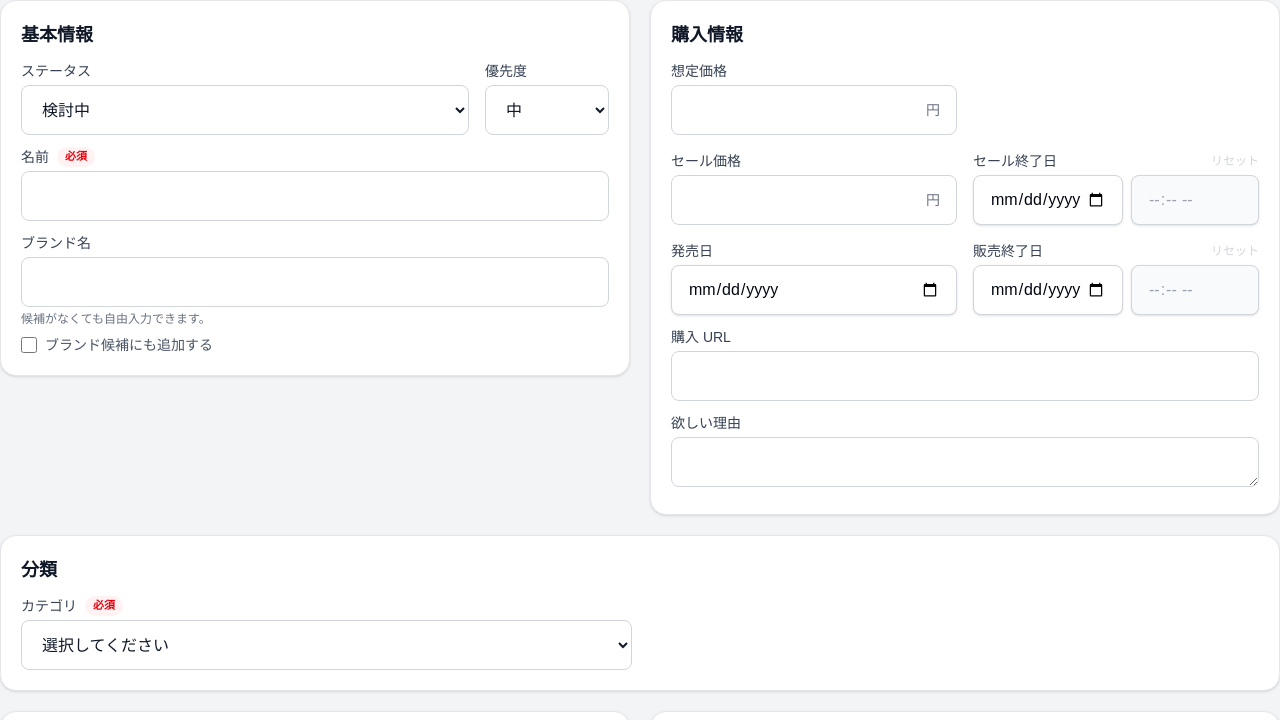
it: 購入検討フォーム › カテゴリ未選択では種類を表示せず、カテゴリ選択後に表示する
This screenshot has width=1280, height=720.
Select "トップス" in the dropdown with id "category_group_id" at coordinates (326, 645), box [21,620,632,670]
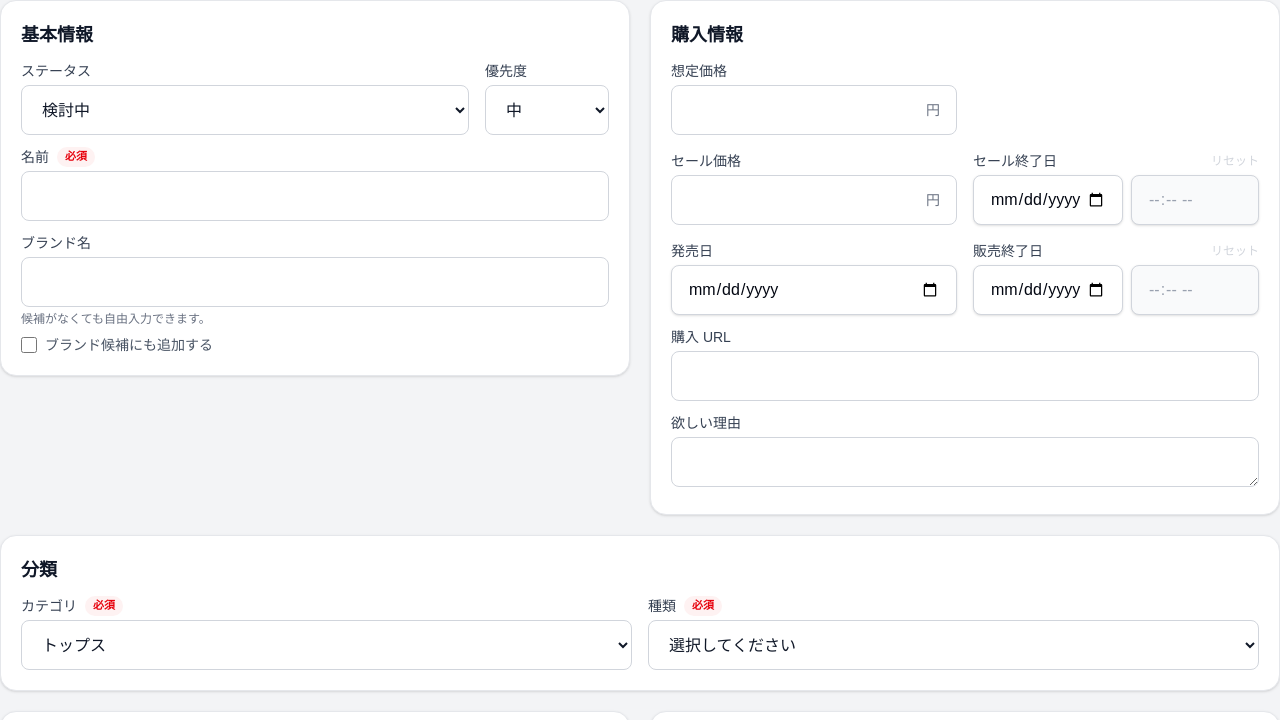
Check: the dropdown with id "category_id" is shown, box [648,620,1259,670]
